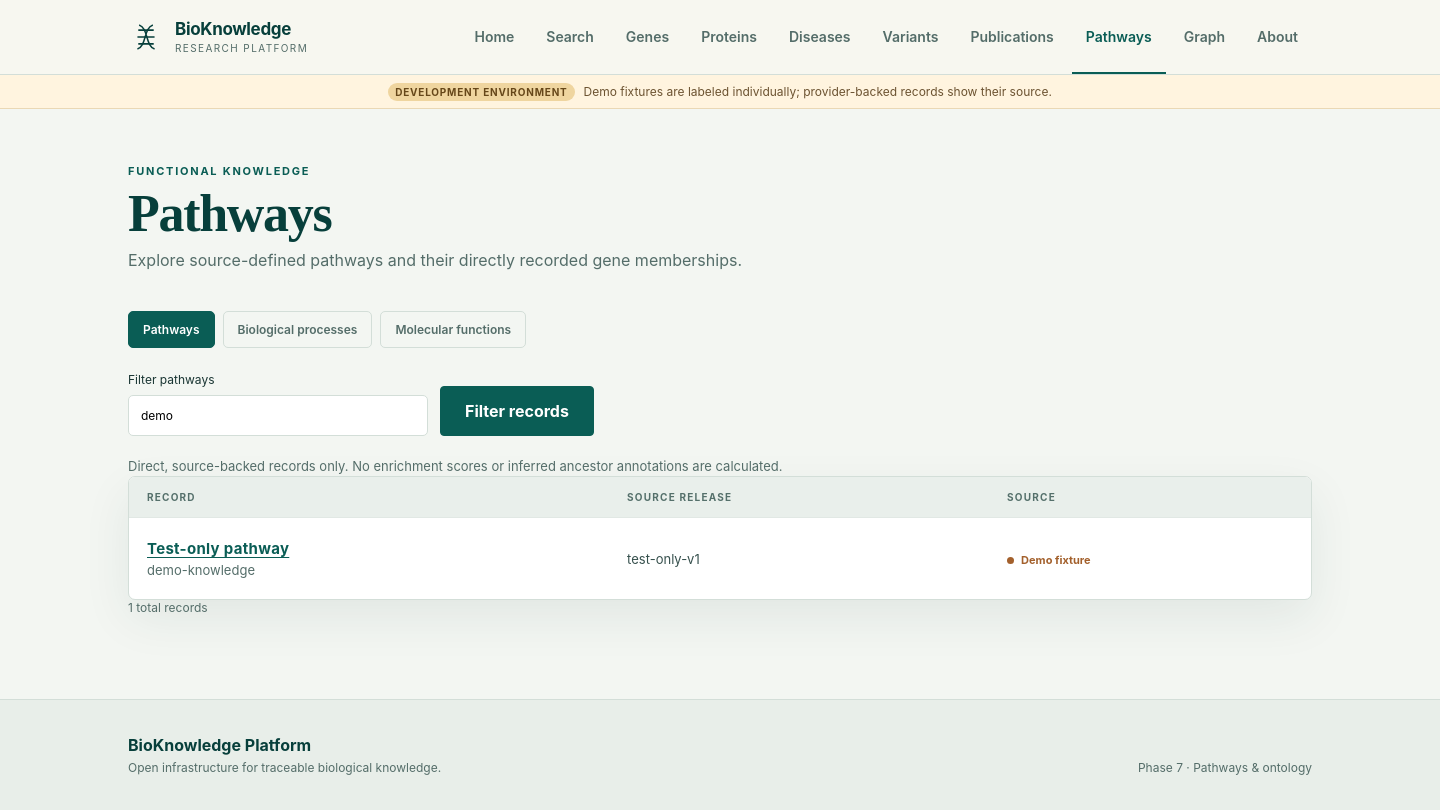
Test: pathway browser preserves filter URL, provenance and detail navigation
Expected: the text "test-only-v1" is shown, [609,518,989,599]
Replace the text in the field labelled "Filter pathways" with "new-filter". click: point(278, 416)
box: [128,395,428,436]
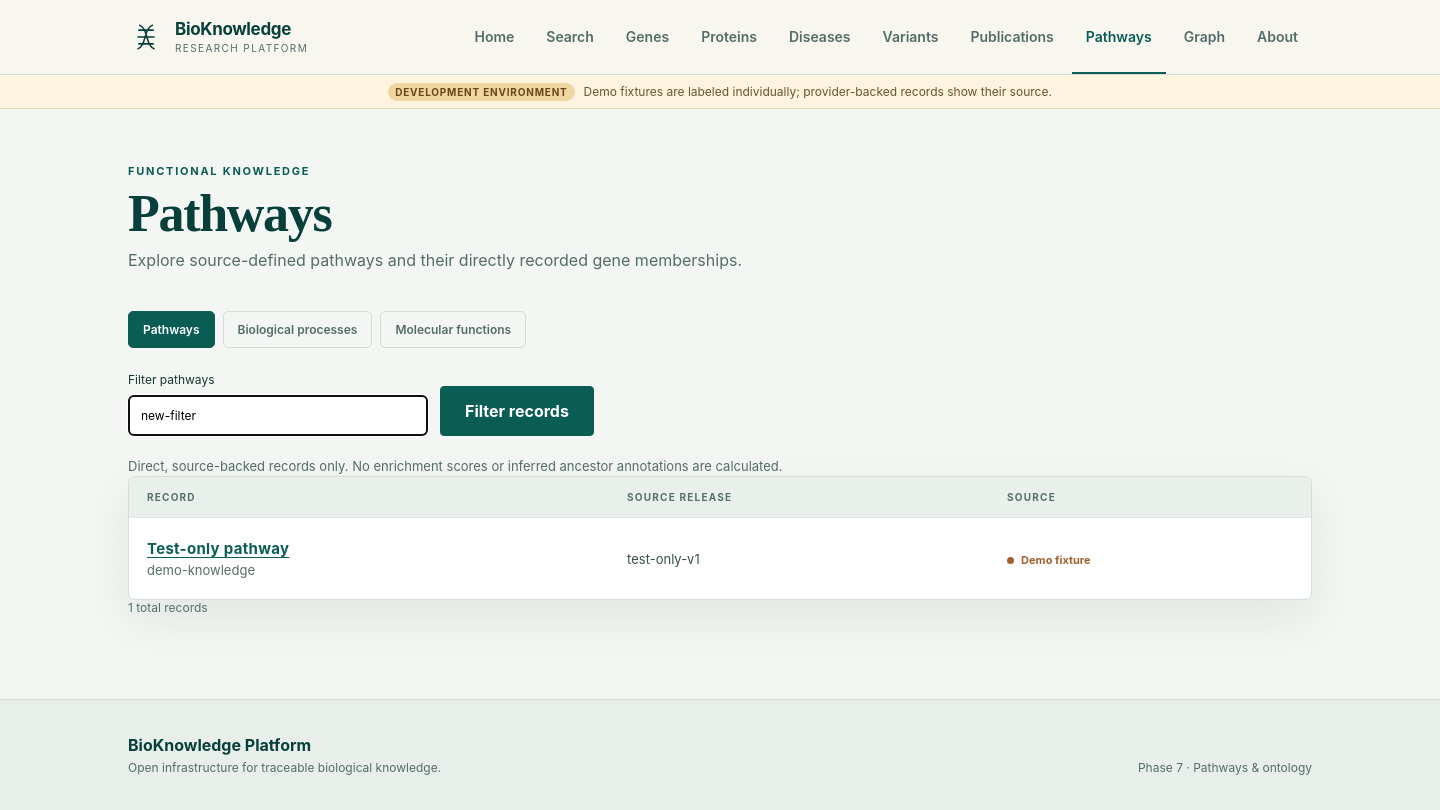
Click the button "Filter records". click: point(517, 411)
box: [440,386,594,436]
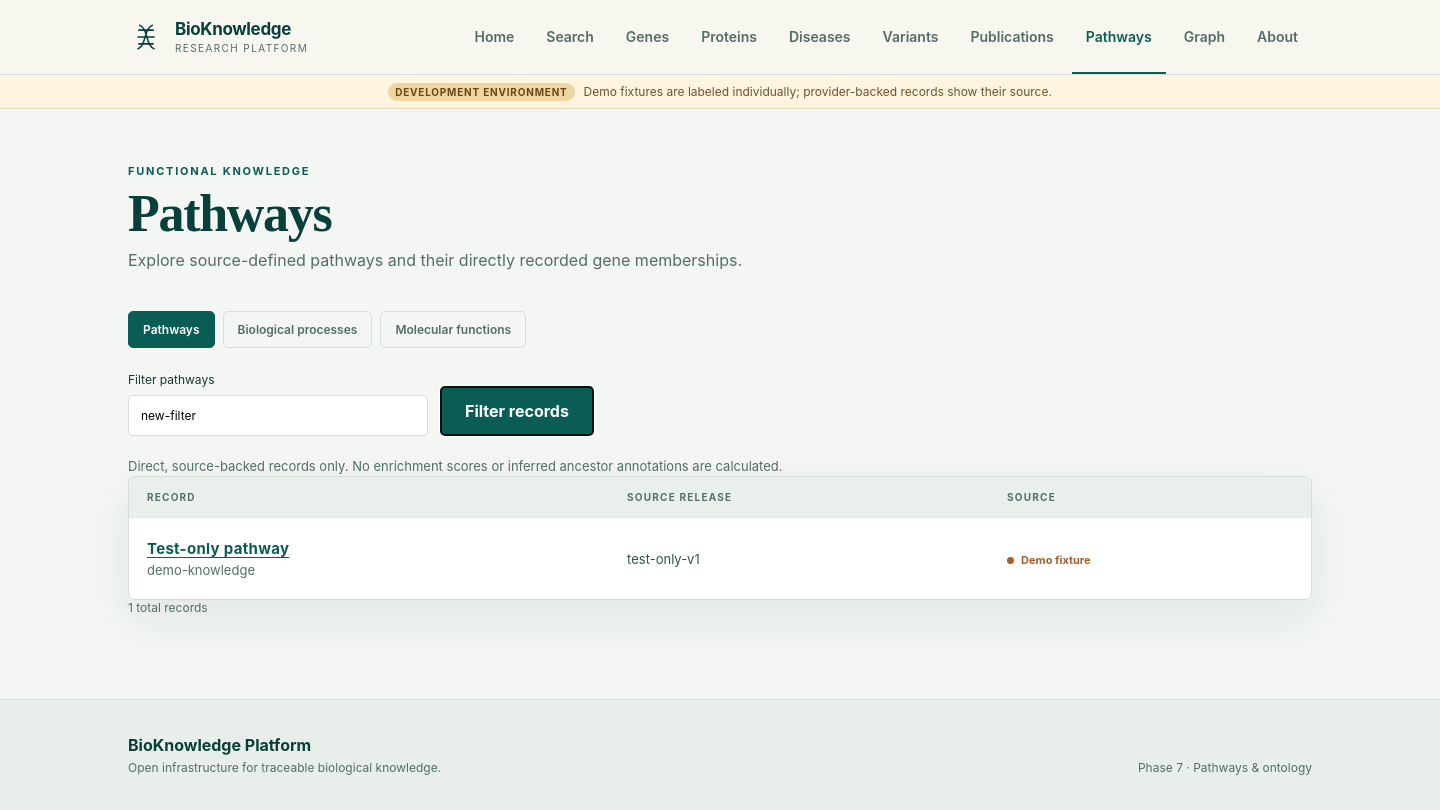
Click the link "Test-only pathway". click: point(218, 549)
box: [147,539,289,558]
(page scrolled)
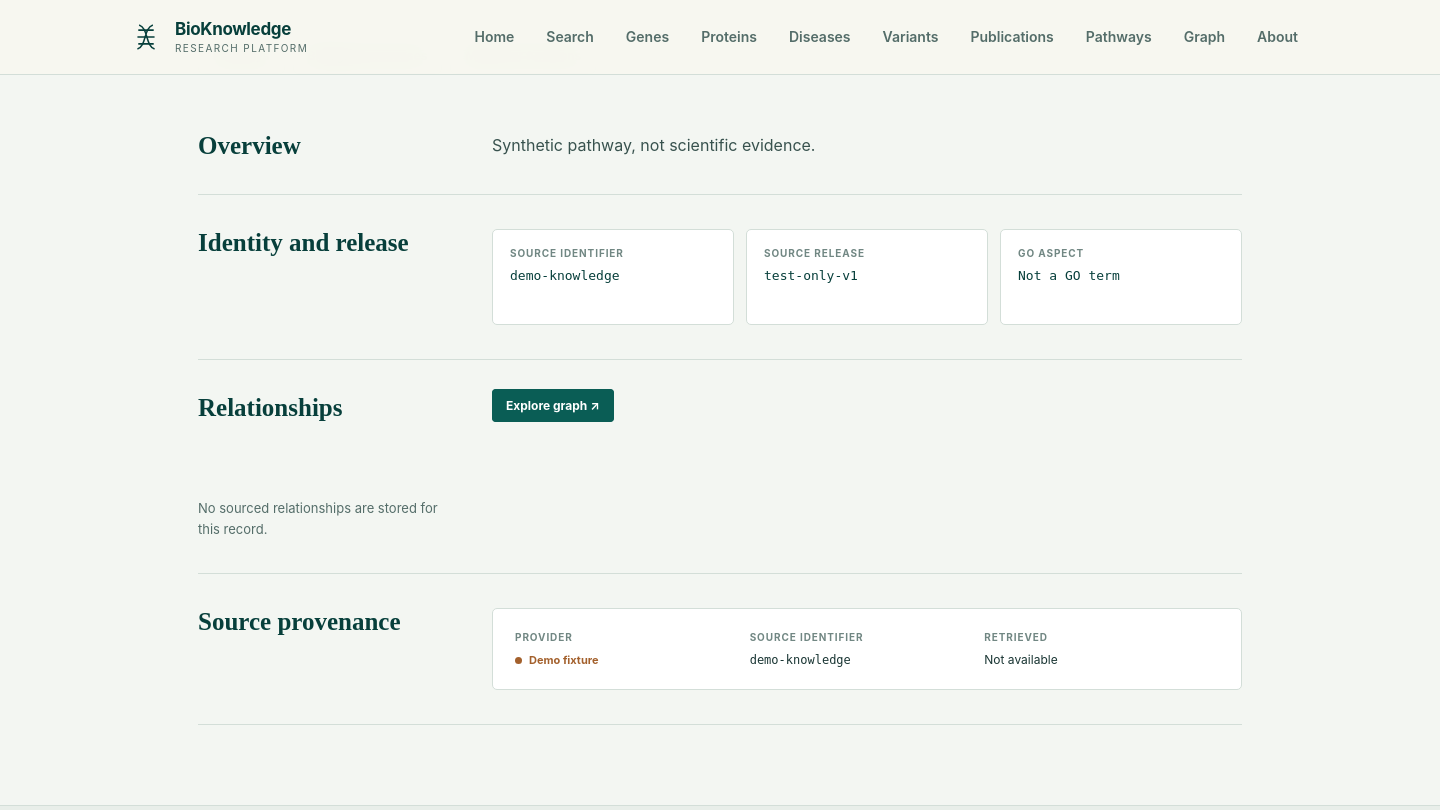
Expected: the text "Synthetic pathway, not scientific evidence." is shown, [492,135,816,155]
